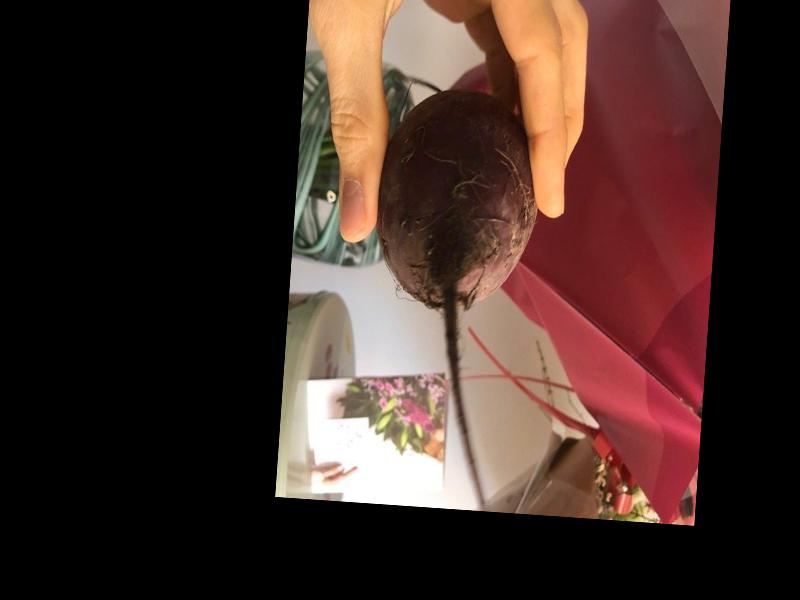Beet: (356, 78, 545, 513)
